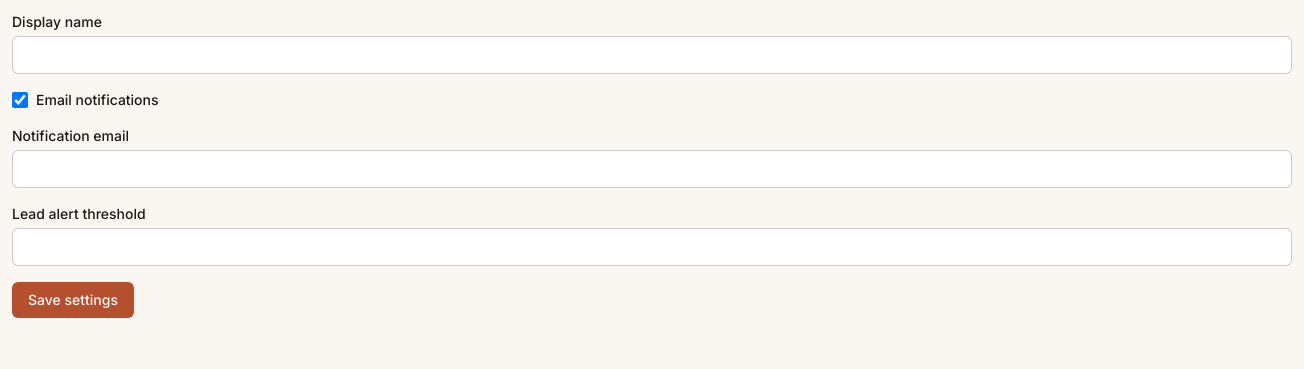
Test case: SettingsForm › saves successfully when all fields are valid
The image size is (1304, 369).
Type "Philip" into the field labelled "Display name" at [652, 55], box [12,36,1292,74]
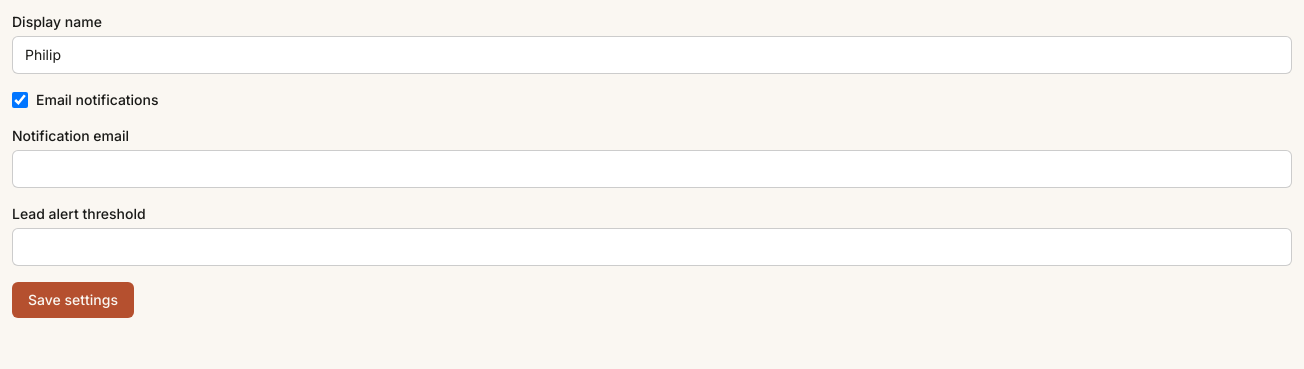
Type "philip@example.com" into the field labelled "Notification email" at [652, 169], box [12,150,1292,188]
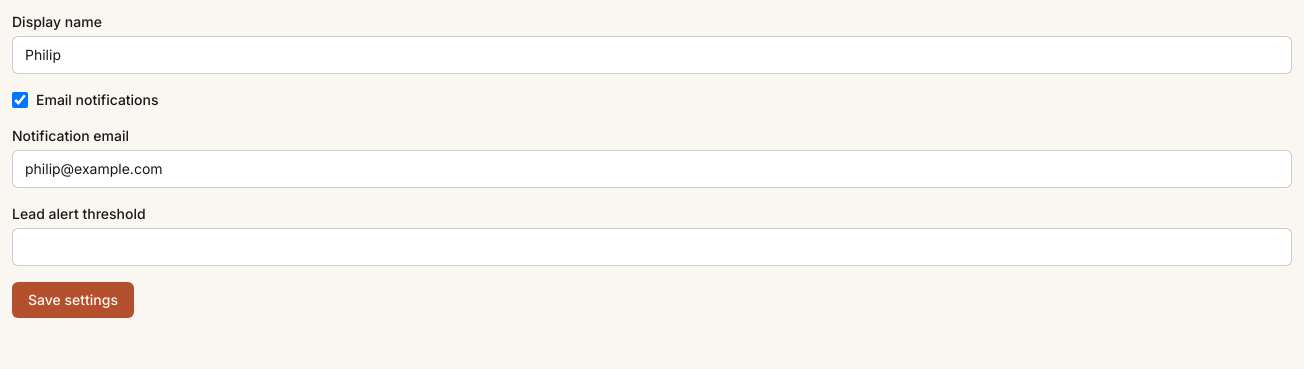
Type "50" into the number field labelled "Lead alert threshold" at [652, 247], box [12,228,1292,266]
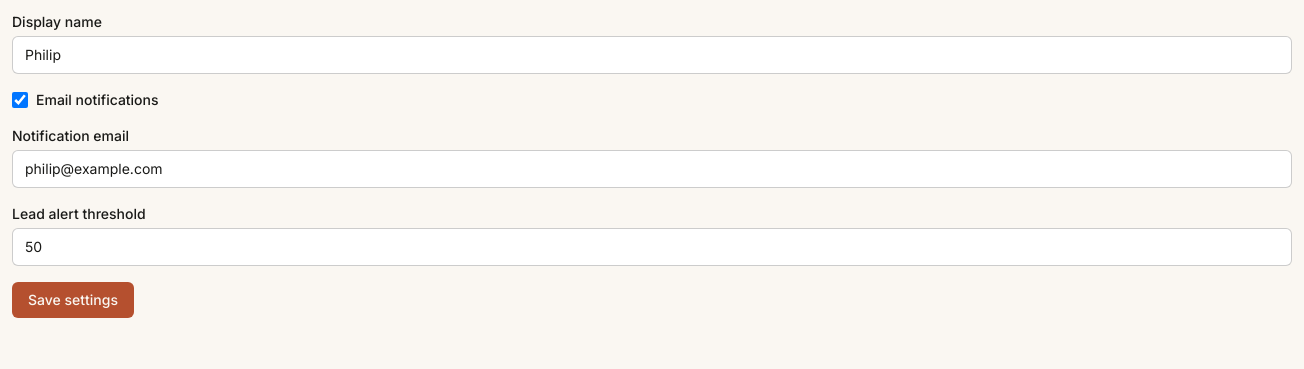
Click the button "Save settings" at [73, 300], box [12,282,134,318]
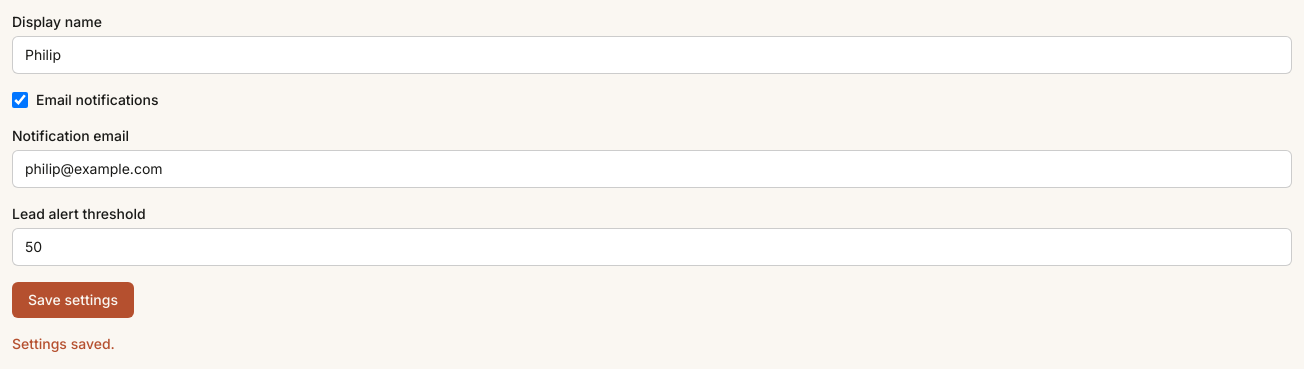
Expected: the text "Settings saved." is shown, [12,335,115,352]
